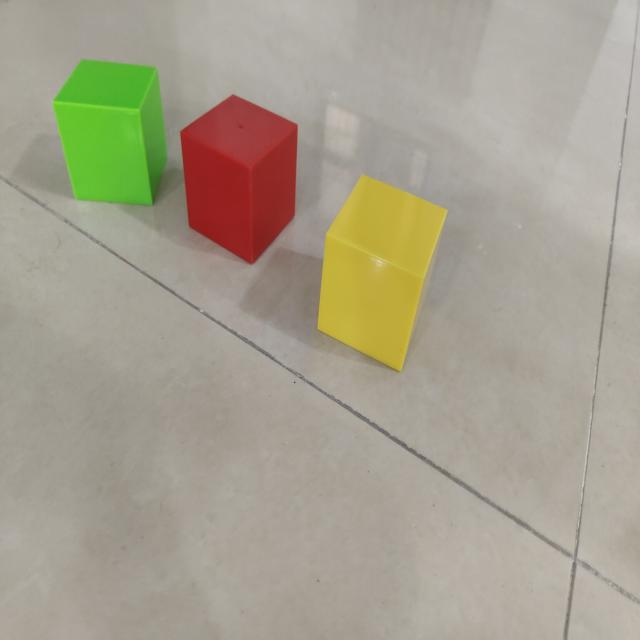green: (52, 61, 166, 208)
red: (179, 95, 299, 265)
yellow: (315, 176, 447, 373)
